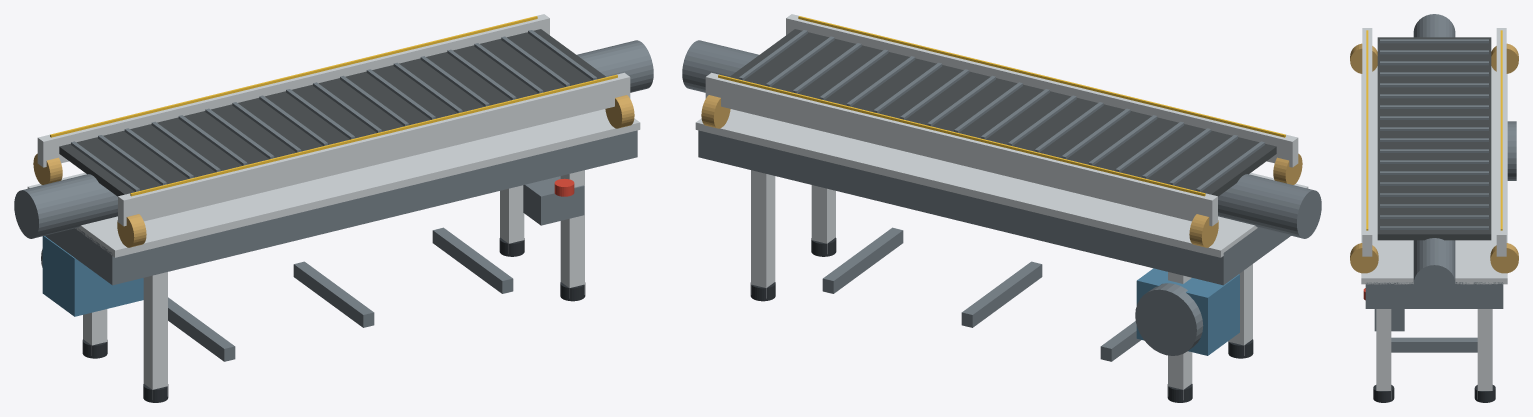
Rendered from MainConveyor.glb.
The picture shows the model from 3 angles, left to right: view 1: azimuth 30°, elevation 25°; view 2: azimuth 150°, elevation 25°; view 3: azimuth 270°, elevation 25°; orthographic projection. The views are drawn at different scales.
Parts seen in each view (by area): view 1: belt_surface, main_frame, frame_top_trim, side_rail_0.45, side_rail_-0.45, end_drum_-1.58, drive_motor, leg_-1.35_0.34, end_drum_1.58, junction_box, leg_1.35_0.34, safety_strip_-0.45 (+9 smaller); view 2: belt_surface, main_frame, frame_top_trim, side_rail_-0.45, side_rail_0.45, end_drum_-1.58, motor_cap, drive_motor, leg_1.35_-0.34, end_drum_1.58, safety_strip_0.45, safety_strip_-0.45 (+9 smaller); view 3: belt_surface, frame_top_trim, main_frame, end_drum_1.58, side_rail_0.45, side_rail_-0.45, cross_brace_0.9, leg_1.35_0.34, leg_1.35_-0.34, end_drum_-1.58, end_bearing_1.58_0.47, end_bearing_1.58_-0.47 (+26 smaller).
Part boxes in pixels (x1,y1,x2,y2): belt_surface: [59, 29, 605, 196]; main_frame: [45, 130, 637, 285]; frame_top_trim: [27, 109, 640, 257]; side_rail_0.45: [118, 72, 630, 226]; side_rail_-0.45: [37, 14, 549, 167]; end_drum_-1.58: [14, 174, 117, 238]; drive_motor: [42, 236, 143, 316]; leg_-1.35_0.34: [143, 272, 167, 399]; end_drum_1.58: [577, 40, 653, 92]; junction_box: [523, 176, 584, 225]; leg_1.35_0.34: [560, 170, 584, 298]; safety_strip_-0.45: [50, 16, 537, 137]; belt_surface: [730, 29, 1276, 196]; main_frame: [698, 130, 1290, 285]; frame_top_trim: [695, 109, 1308, 257]; side_rail_-0.45: [705, 72, 1217, 226]; side_rail_0.45: [786, 14, 1298, 167]; end_drum_-1.58: [1218, 174, 1321, 238]; motor_cap: [1135, 283, 1203, 355]; drive_motor: [1136, 268, 1239, 355]; leg_1.35_-0.34: [751, 170, 775, 298]; end_drum_1.58: [682, 40, 758, 92]; safety_strip_0.45: [798, 16, 1285, 137]; safety_strip_-0.45: [718, 74, 1205, 196]; belt_surface: [1377, 37, 1491, 240]; frame_top_trim: [1361, 66, 1507, 284]; main_frame: [1365, 282, 1503, 308]; end_drum_1.58: [1413, 238, 1455, 302]; side_rail_0.45: [1362, 28, 1372, 256]; side_rail_-0.45: [1496, 28, 1506, 256]; cross_brace_0.9: [1391, 337, 1477, 352]; leg_1.35_0.34: [1376, 309, 1391, 399]; leg_1.35_-0.34: [1477, 309, 1492, 399]; end_drum_-1.58: [1413, 14, 1455, 37]; end_bearing_1.58_0.47: [1350, 243, 1378, 273]; end_bearing_1.58_-0.47: [1490, 243, 1518, 273].
Size of the model in its own units: 3.98 by 1.36 by 1.13.
